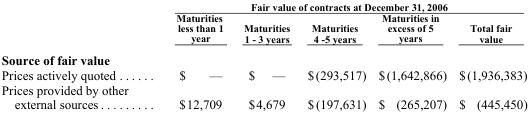table: (0, 0, 526, 111)
table column: (0, 0, 151, 111), (151, 0, 232, 111), (371, 0, 452, 111), (452, 0, 526, 111), (298, 0, 371, 111), (232, 0, 298, 111)
table column header: (0, 0, 526, 48)
table projected row header: (0, 48, 526, 66)
table row: (0, 11, 526, 48), (0, 81, 526, 111), (0, 48, 526, 66), (0, 66, 526, 81), (0, 0, 526, 11)
table spanning cell: (151, 0, 526, 11)
